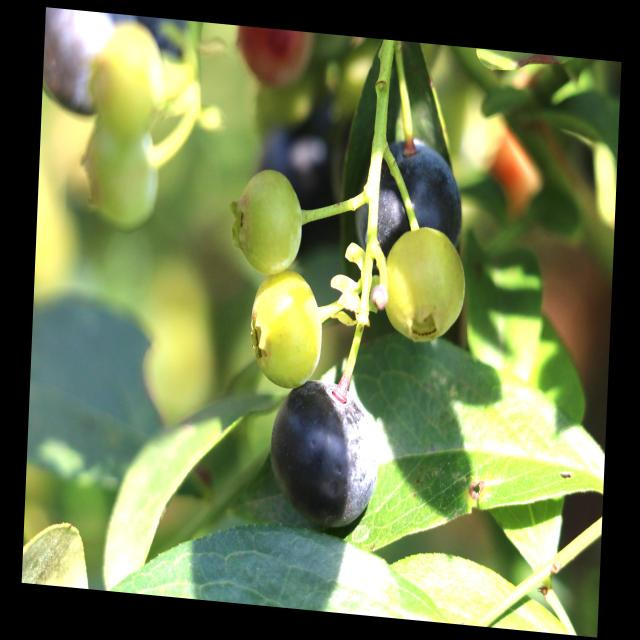blueberry: (264, 375, 380, 532), (350, 133, 466, 278)
blueberry-unripe: (381, 225, 469, 346), (250, 267, 326, 387), (79, 120, 166, 224), (90, 18, 165, 135), (232, 165, 305, 275)
